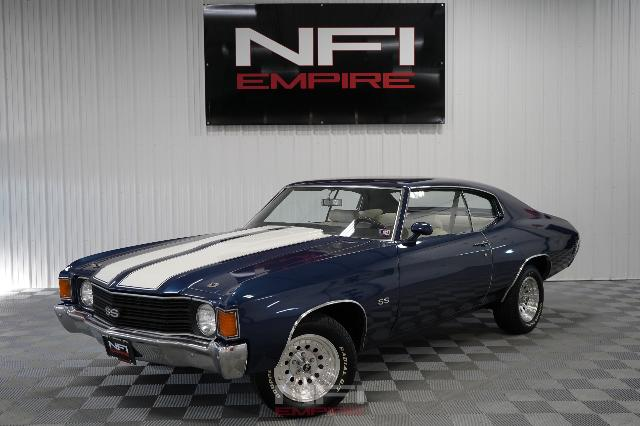chevelle-1972: (54, 178, 579, 418)
